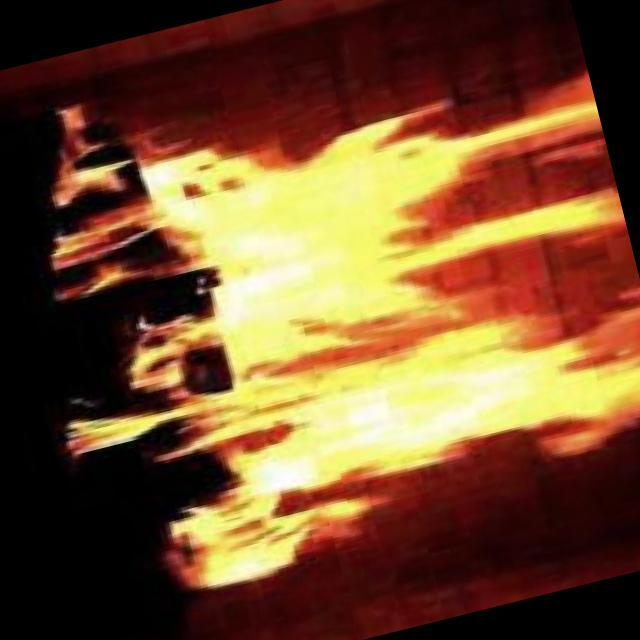Fire: (71, 102, 631, 560)
